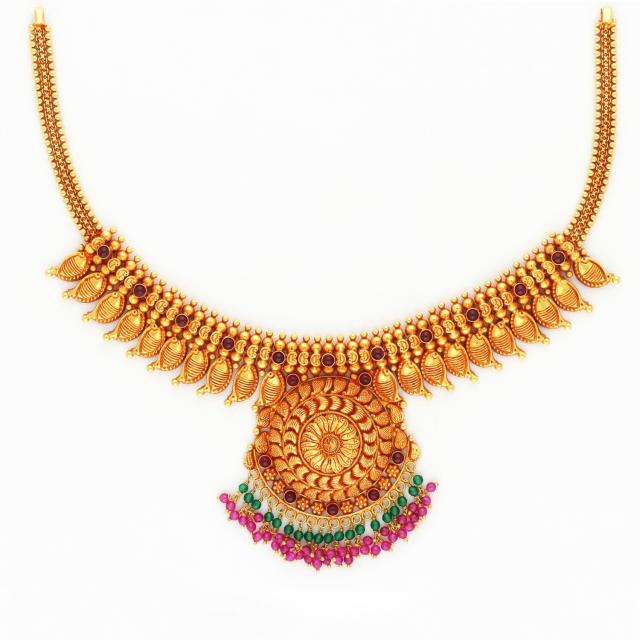missing gem: (325, 438, 336, 451)
